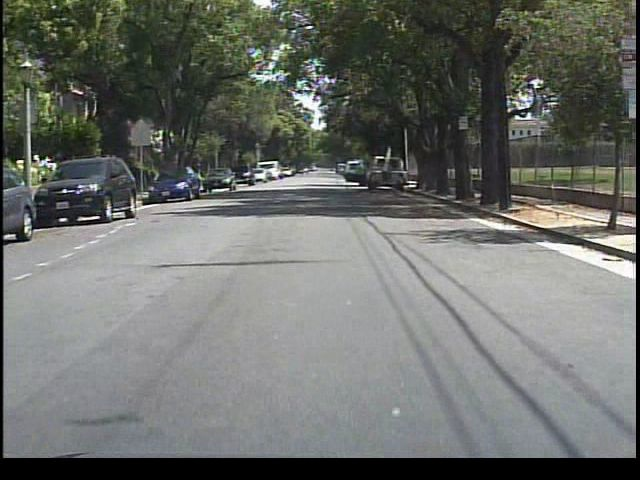person: (354, 162, 370, 187)
